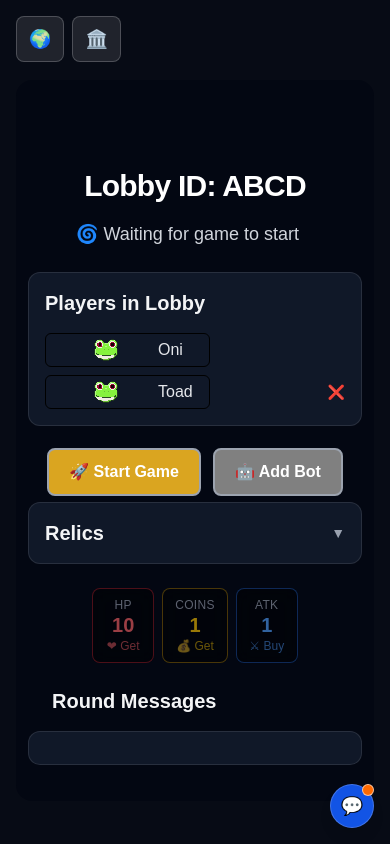
Test case: TextLobby › chats behind the 💬 button, which lights up for a message while closed
The image size is (390, 844).
Expected: the text "hi" is not shown
Click the button named "Toggle chat". click: click(352, 806)
box: top-left (330, 784), bottom-right (374, 828)
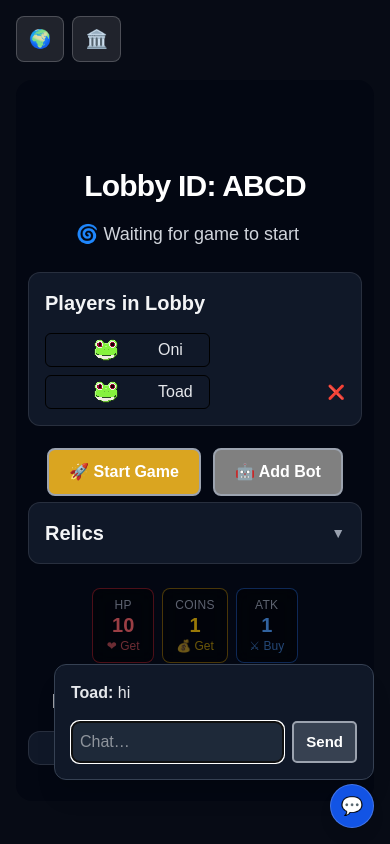
Result: the list item "hi" is shown at top-left (118, 684), bottom-right (130, 701)
Type " gg " into the field named "Chat message". click: (178, 742)
box: top-left (71, 721), bottom-right (284, 763)
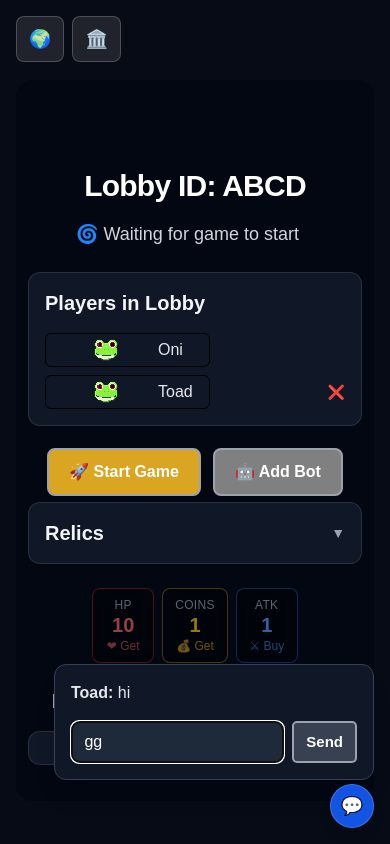
Click the button "Send". click: click(325, 742)
box: top-left (292, 721), bottom-right (357, 763)
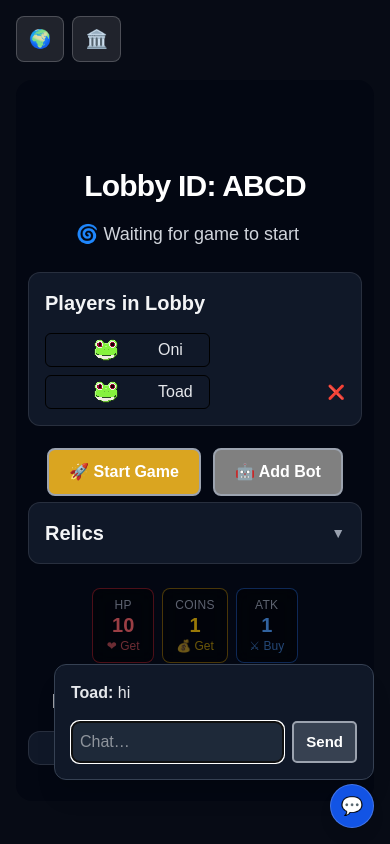
Click the button named "Toggle chat". click: click(352, 806)
box: top-left (330, 784), bottom-right (374, 828)
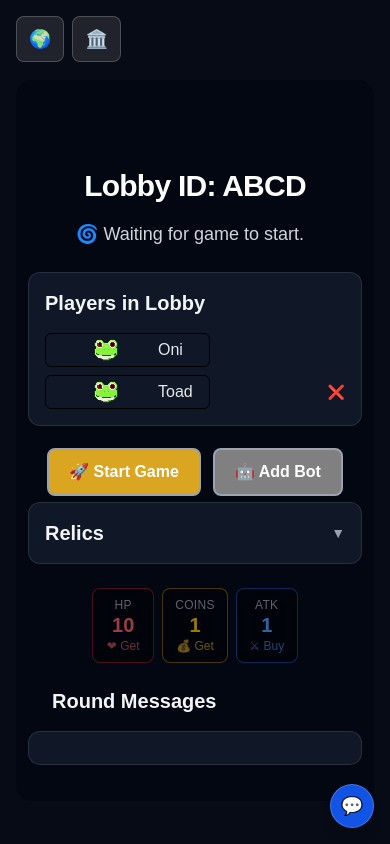
Result: the list item "hi" is gone
